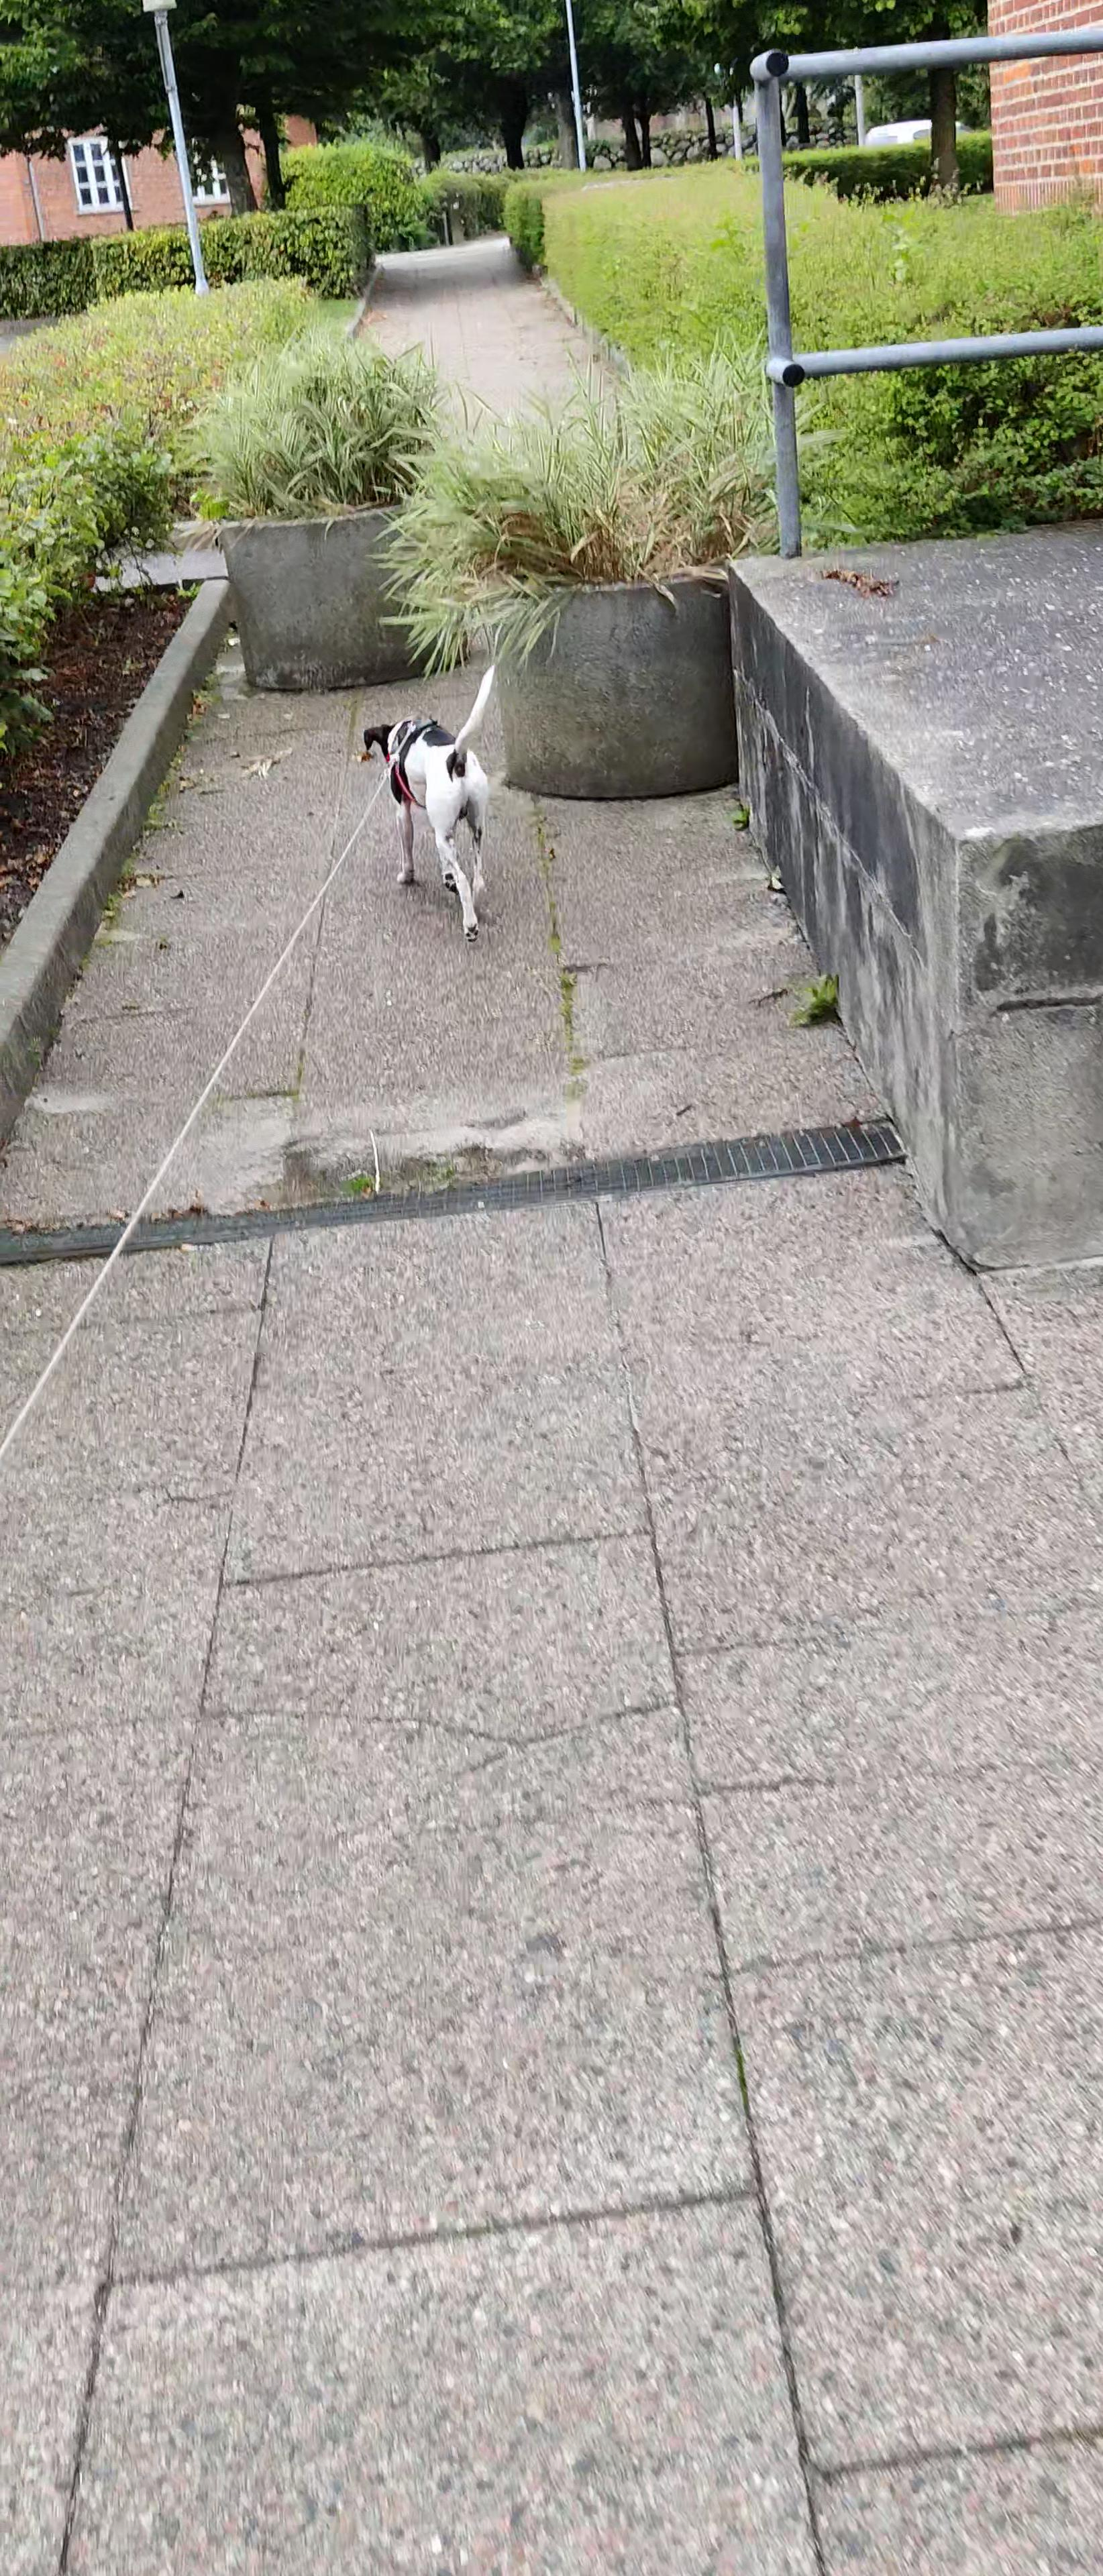Dog: (362, 660, 496, 943)
